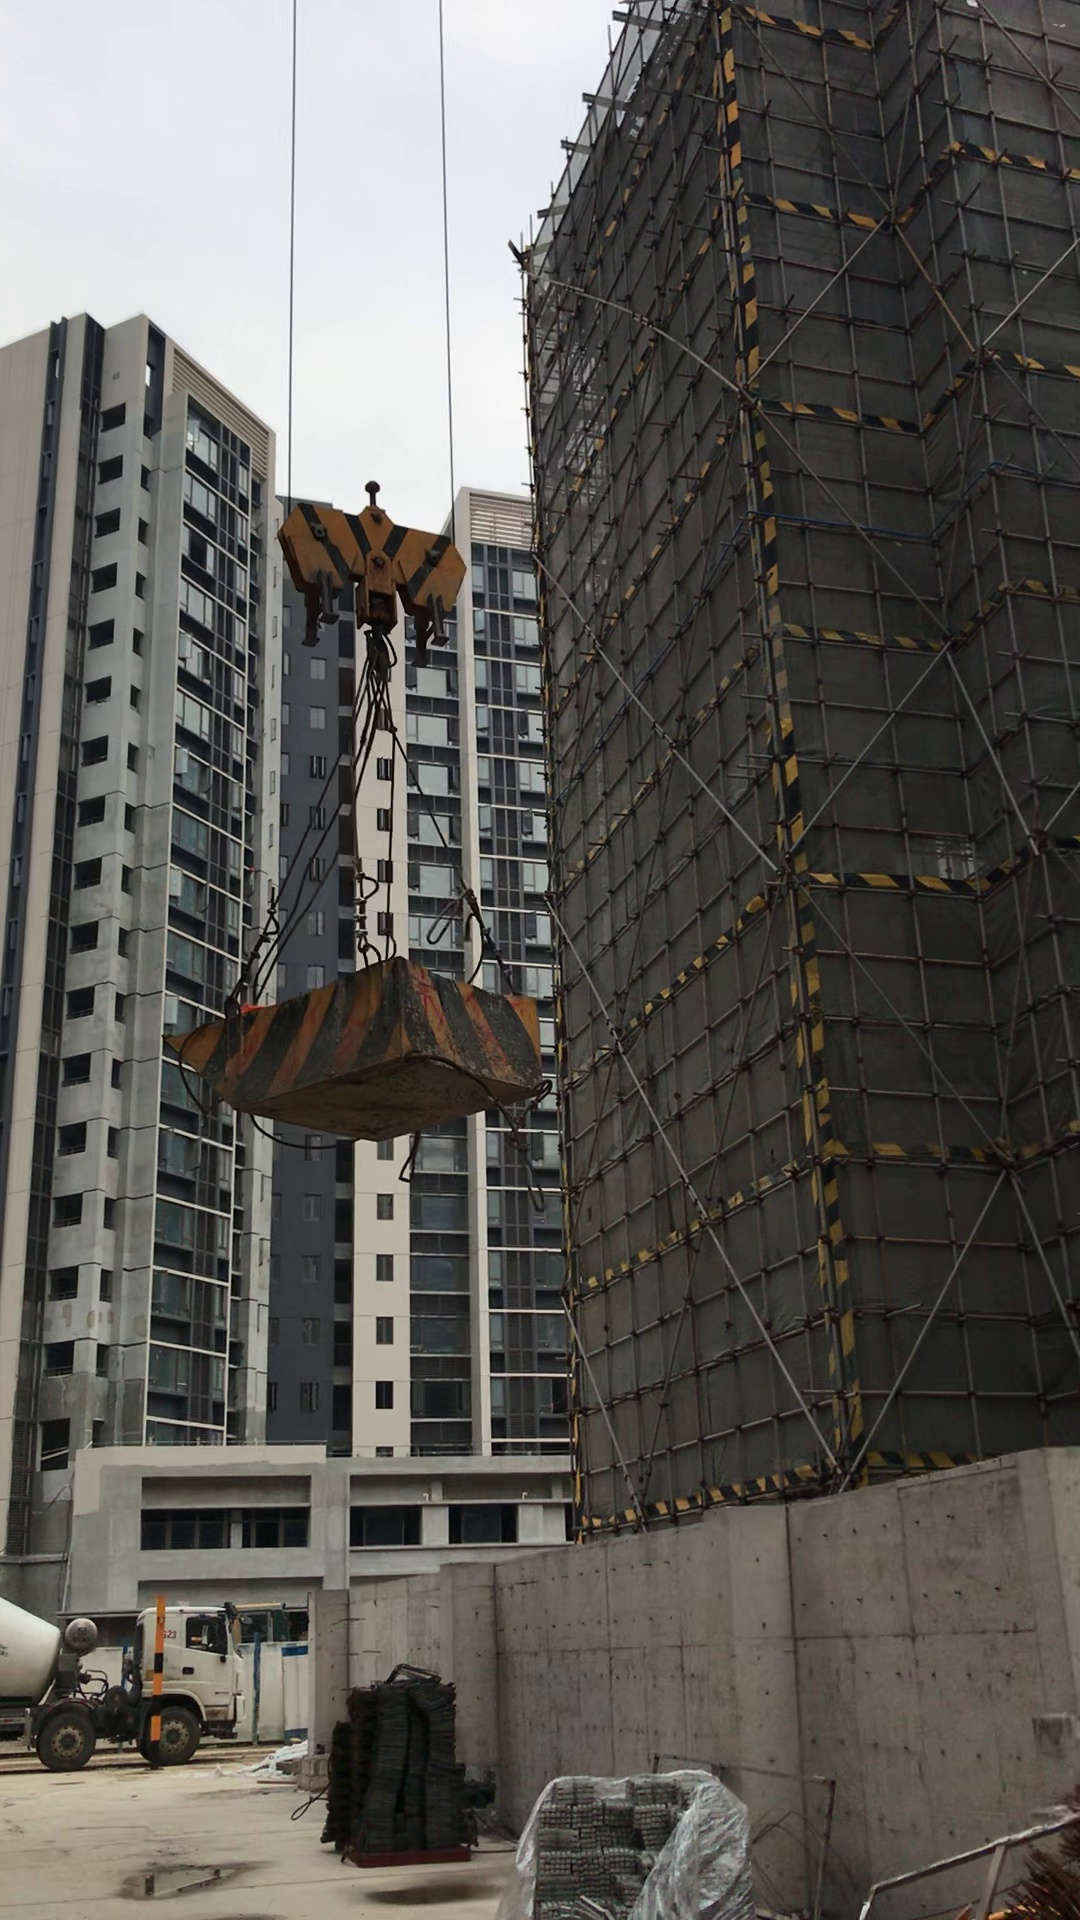hook: (273, 472, 471, 675)
